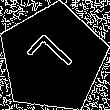L_SE: (24, 30, 82, 87)
